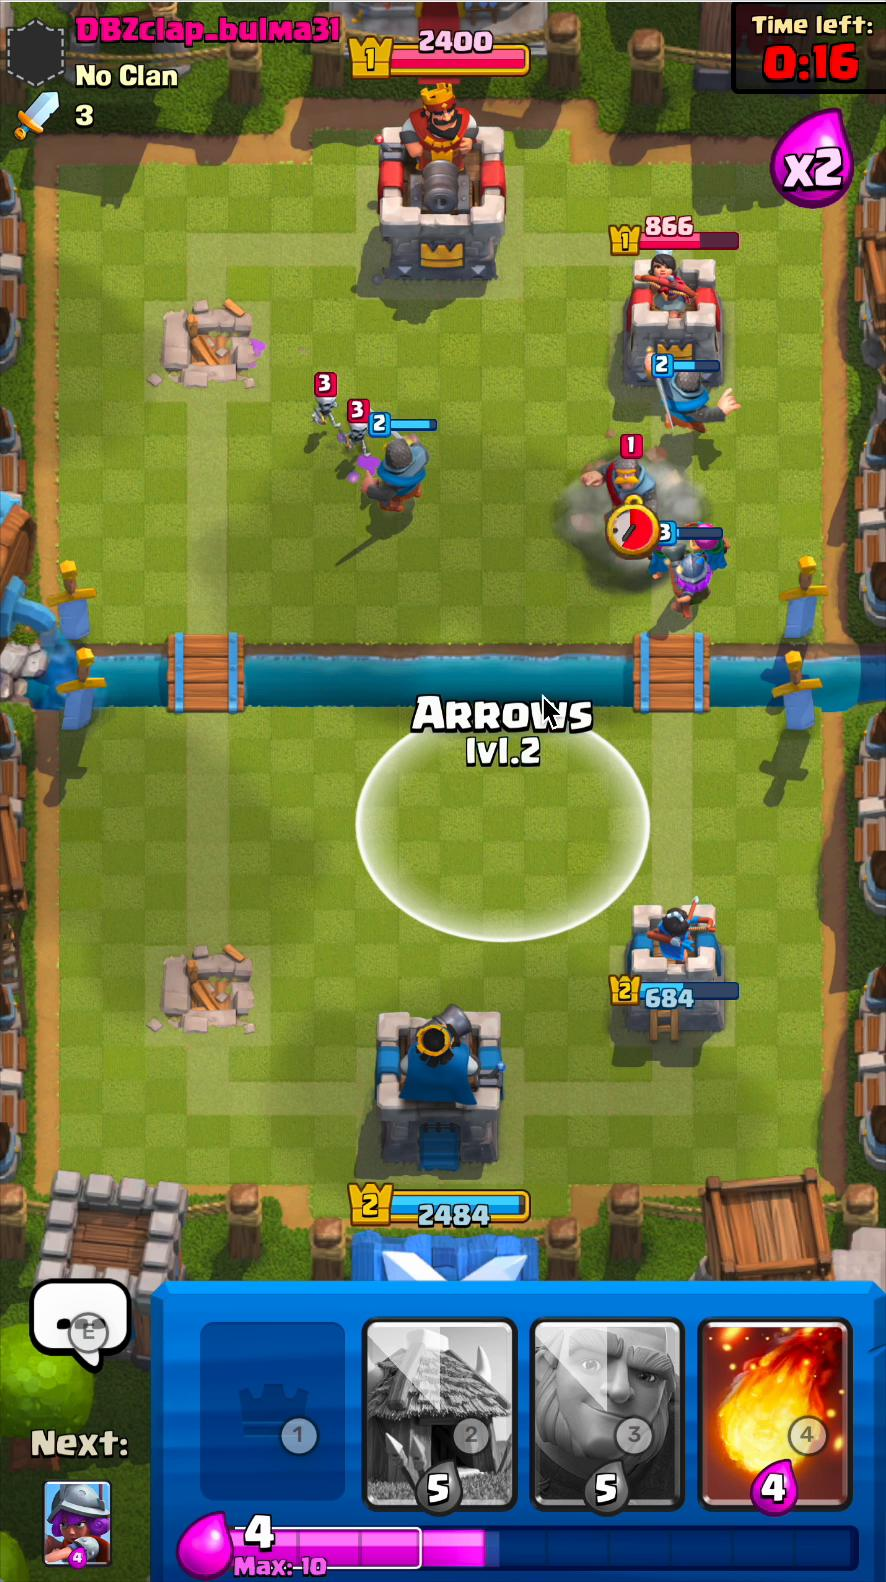archere: (687, 522, 738, 565)
chevalier: (575, 444, 671, 551), (641, 350, 733, 445), (360, 424, 442, 517)
mousquetaire: (664, 531, 715, 614)
squelette: (339, 400, 374, 462), (310, 389, 342, 442)
